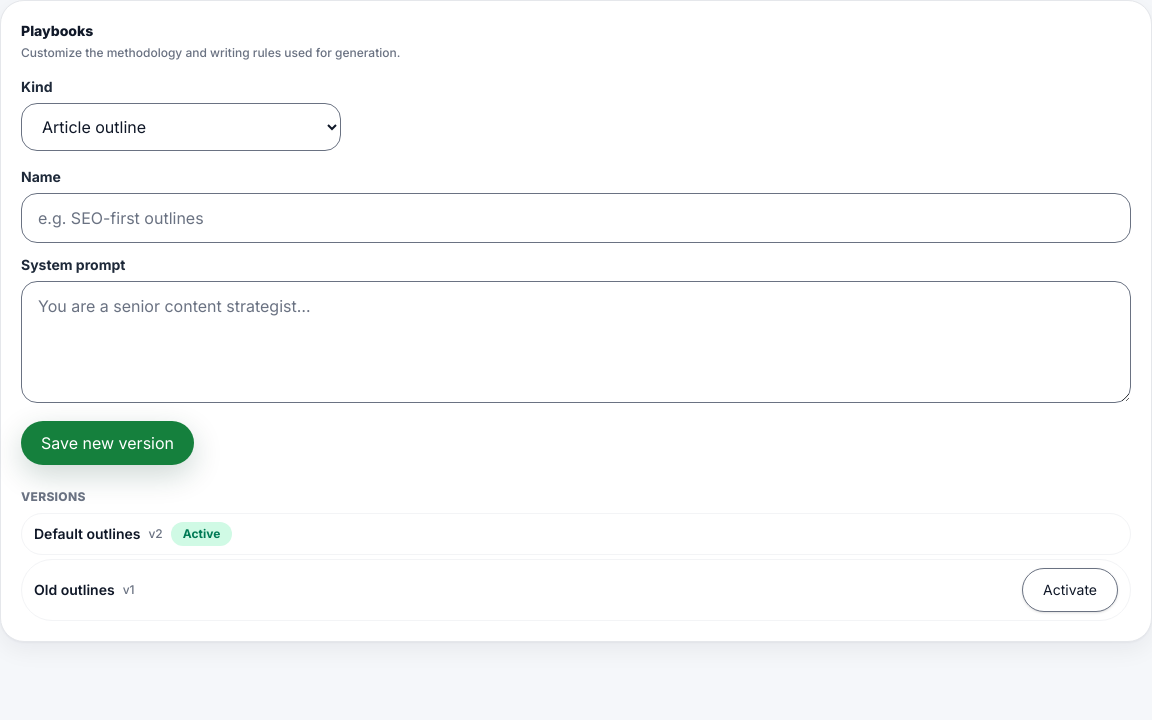
Test case: PlaybooksCard › creates a new version and shows a confirmation
Expected: the text "Default outlines" is shown, [34,524,140,544]
Step 1. Type "SEO-first outlines" into the field with placeholder "e.g. SEO-first outlines" → (576, 218), box [21,193,1131,243]
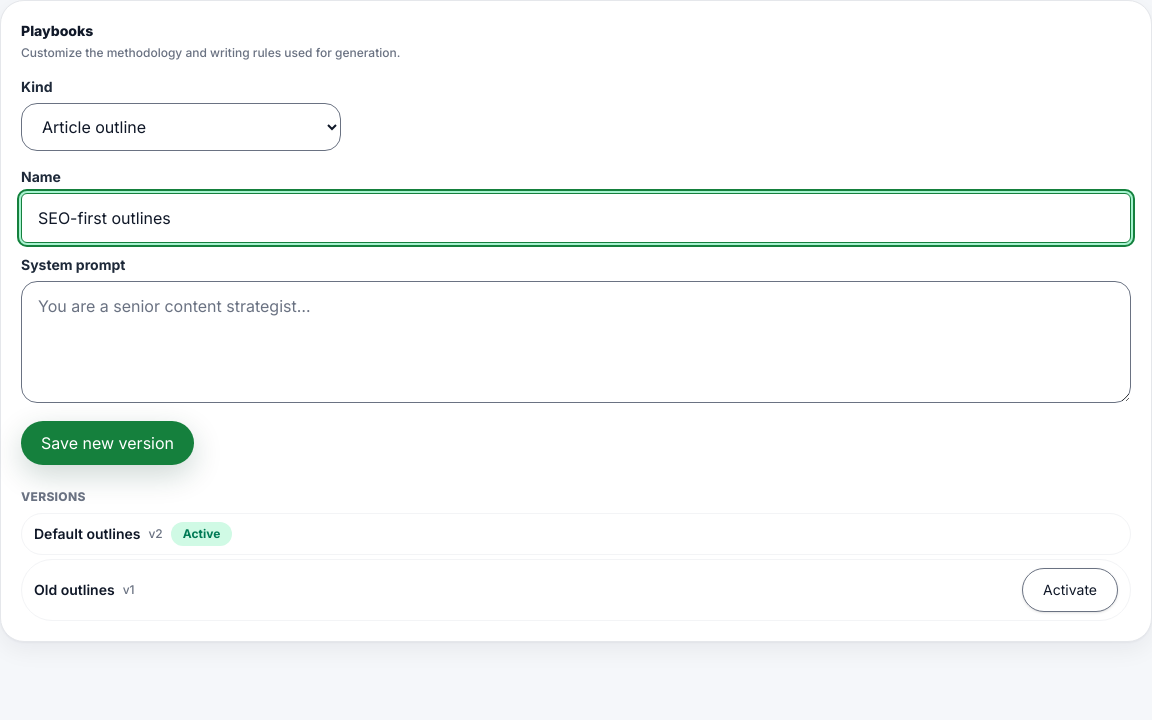
Step 2. Type "Custom playbook rules" into the text box with placeholder "You are a senior content strategist…" → (576, 342), box [21,281,1131,403]
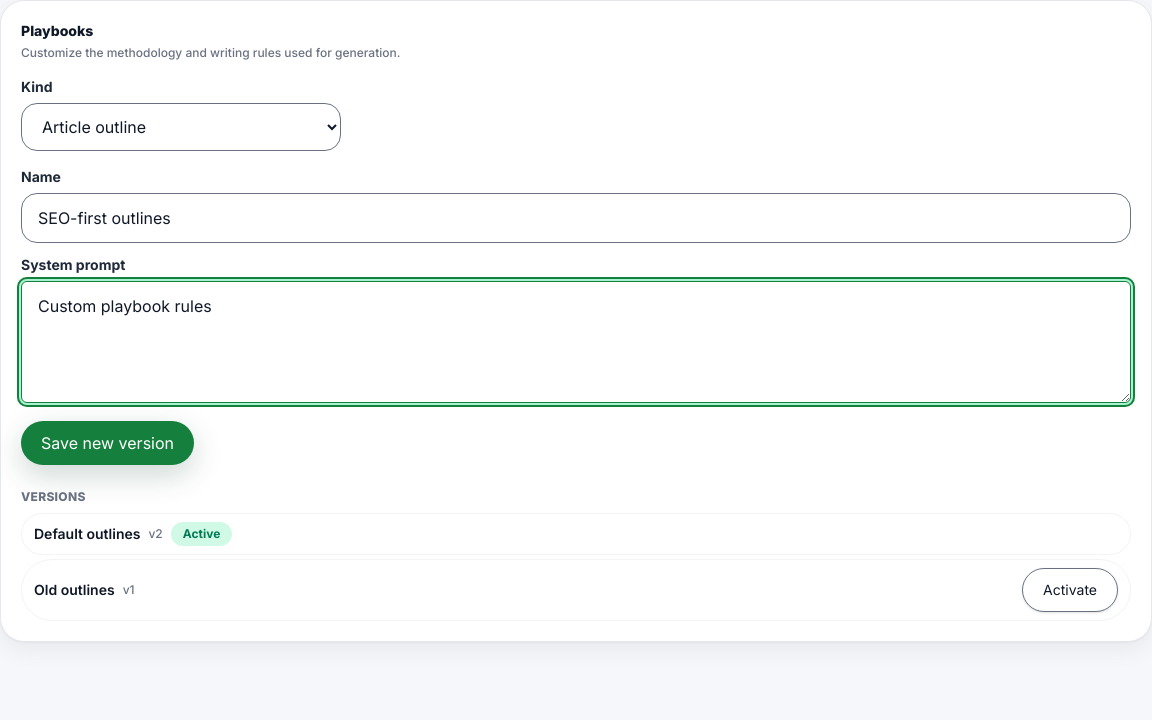
Step 3. Click the button "Save new version" → (108, 443), box [21,421,194,465]
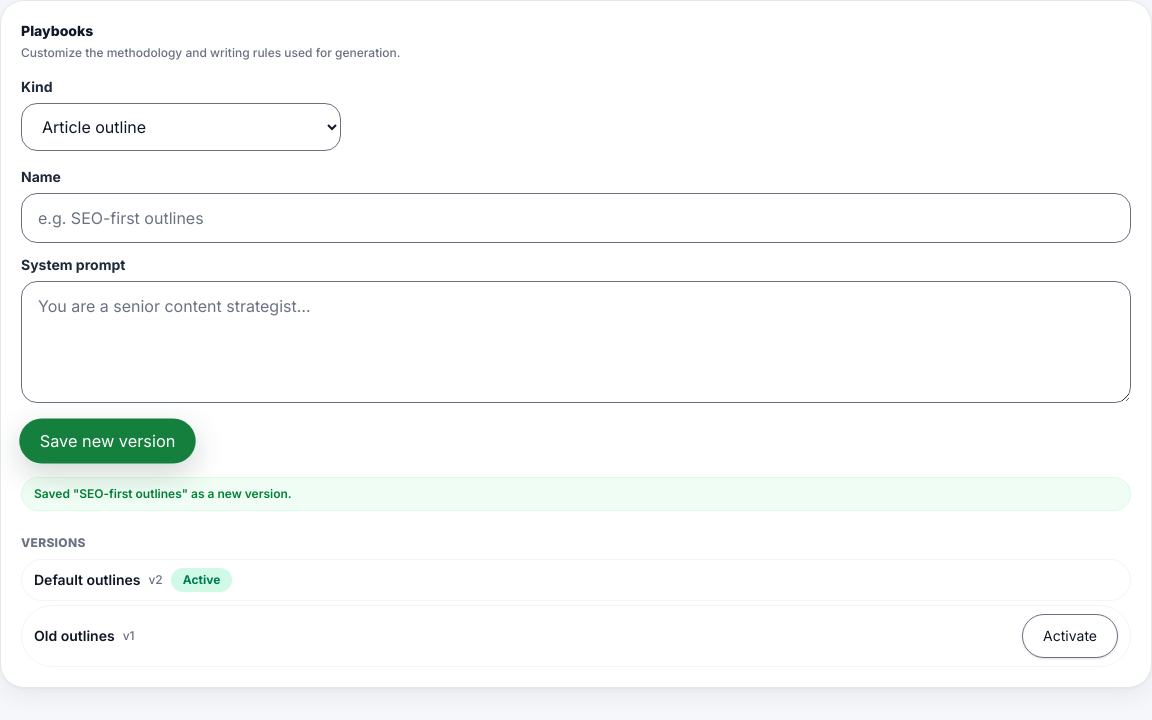
Expected: the text "Saved \"SEO-first outlines\" as a new version." is shown, [21,477,1131,511]
